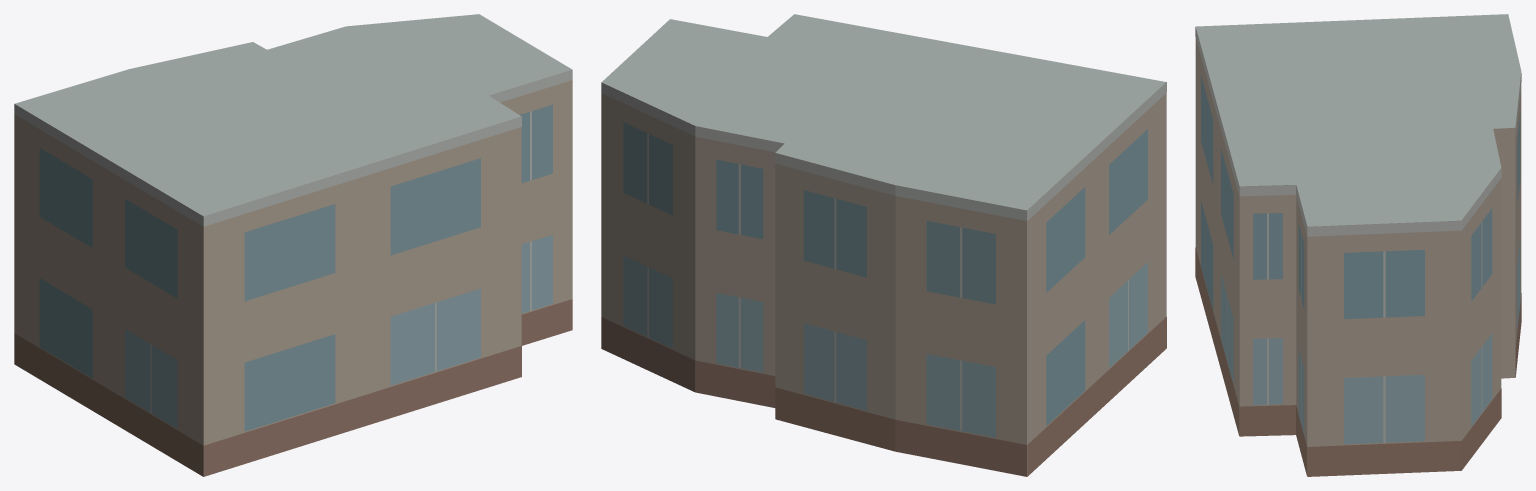
File: survey-upis-32612428.glb
3 views of the same model, side by side, from view 1: azimuth 30°, elevation 25°; view 2: azimuth 150°, elevation 25°; view 3: azimuth 270°, elevation 25° (orthographic). The views are drawn at different scales.
Parts seen in each view (by area): view 1: survey-upis-32612428.tmp; view 2: survey-upis-32612428.tmp; view 3: survey-upis-32612428.tmp.
Boxes of the visible parts, x1,y1,x2,y2 form: survey-upis-32612428.tmp: (14,14,572,476); survey-upis-32612428.tmp: (601,14,1166,476); survey-upis-32612428.tmp: (1195,14,1521,476).
Size of the model in its own units: 11.13 by 6.1 by 7.21.
